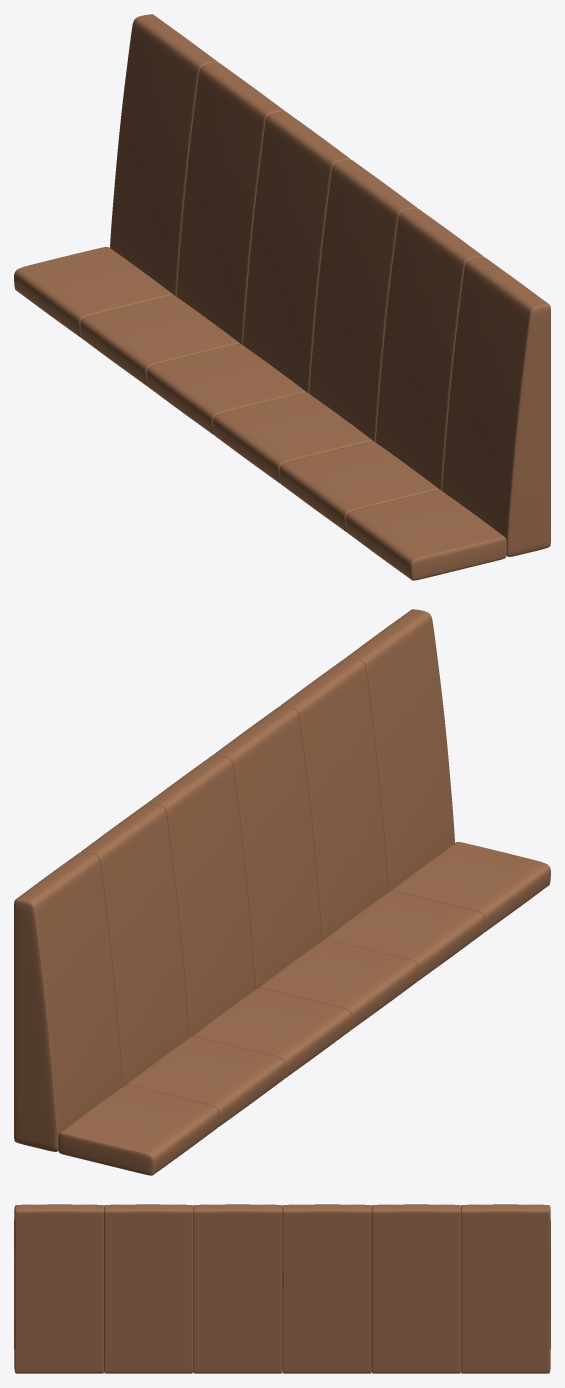
Rendered from Modern_In_Bench.fbx.
3 renders of one model, top to bottom at view 1: azimuth 30°, elevation 25°; view 2: azimuth 150°, elevation 25°; view 3: azimuth 270°, elevation 25°, orthographic. The views are drawn at different scales.
Parts seen in each view (by area): view 1: Modern_In_Bench; view 2: Modern_In_Bench; view 3: Modern_In_Bench.
Part boxes in pixels (<box>): Modern_In_Bench: <box>14,14,550,580</box>; Modern_In_Bench: <box>14,609,550,1175</box>; Modern_In_Bench: <box>14,1204,550,1373</box>.
Bounding box in the file's own units: 73.23 × 122 × 360.
